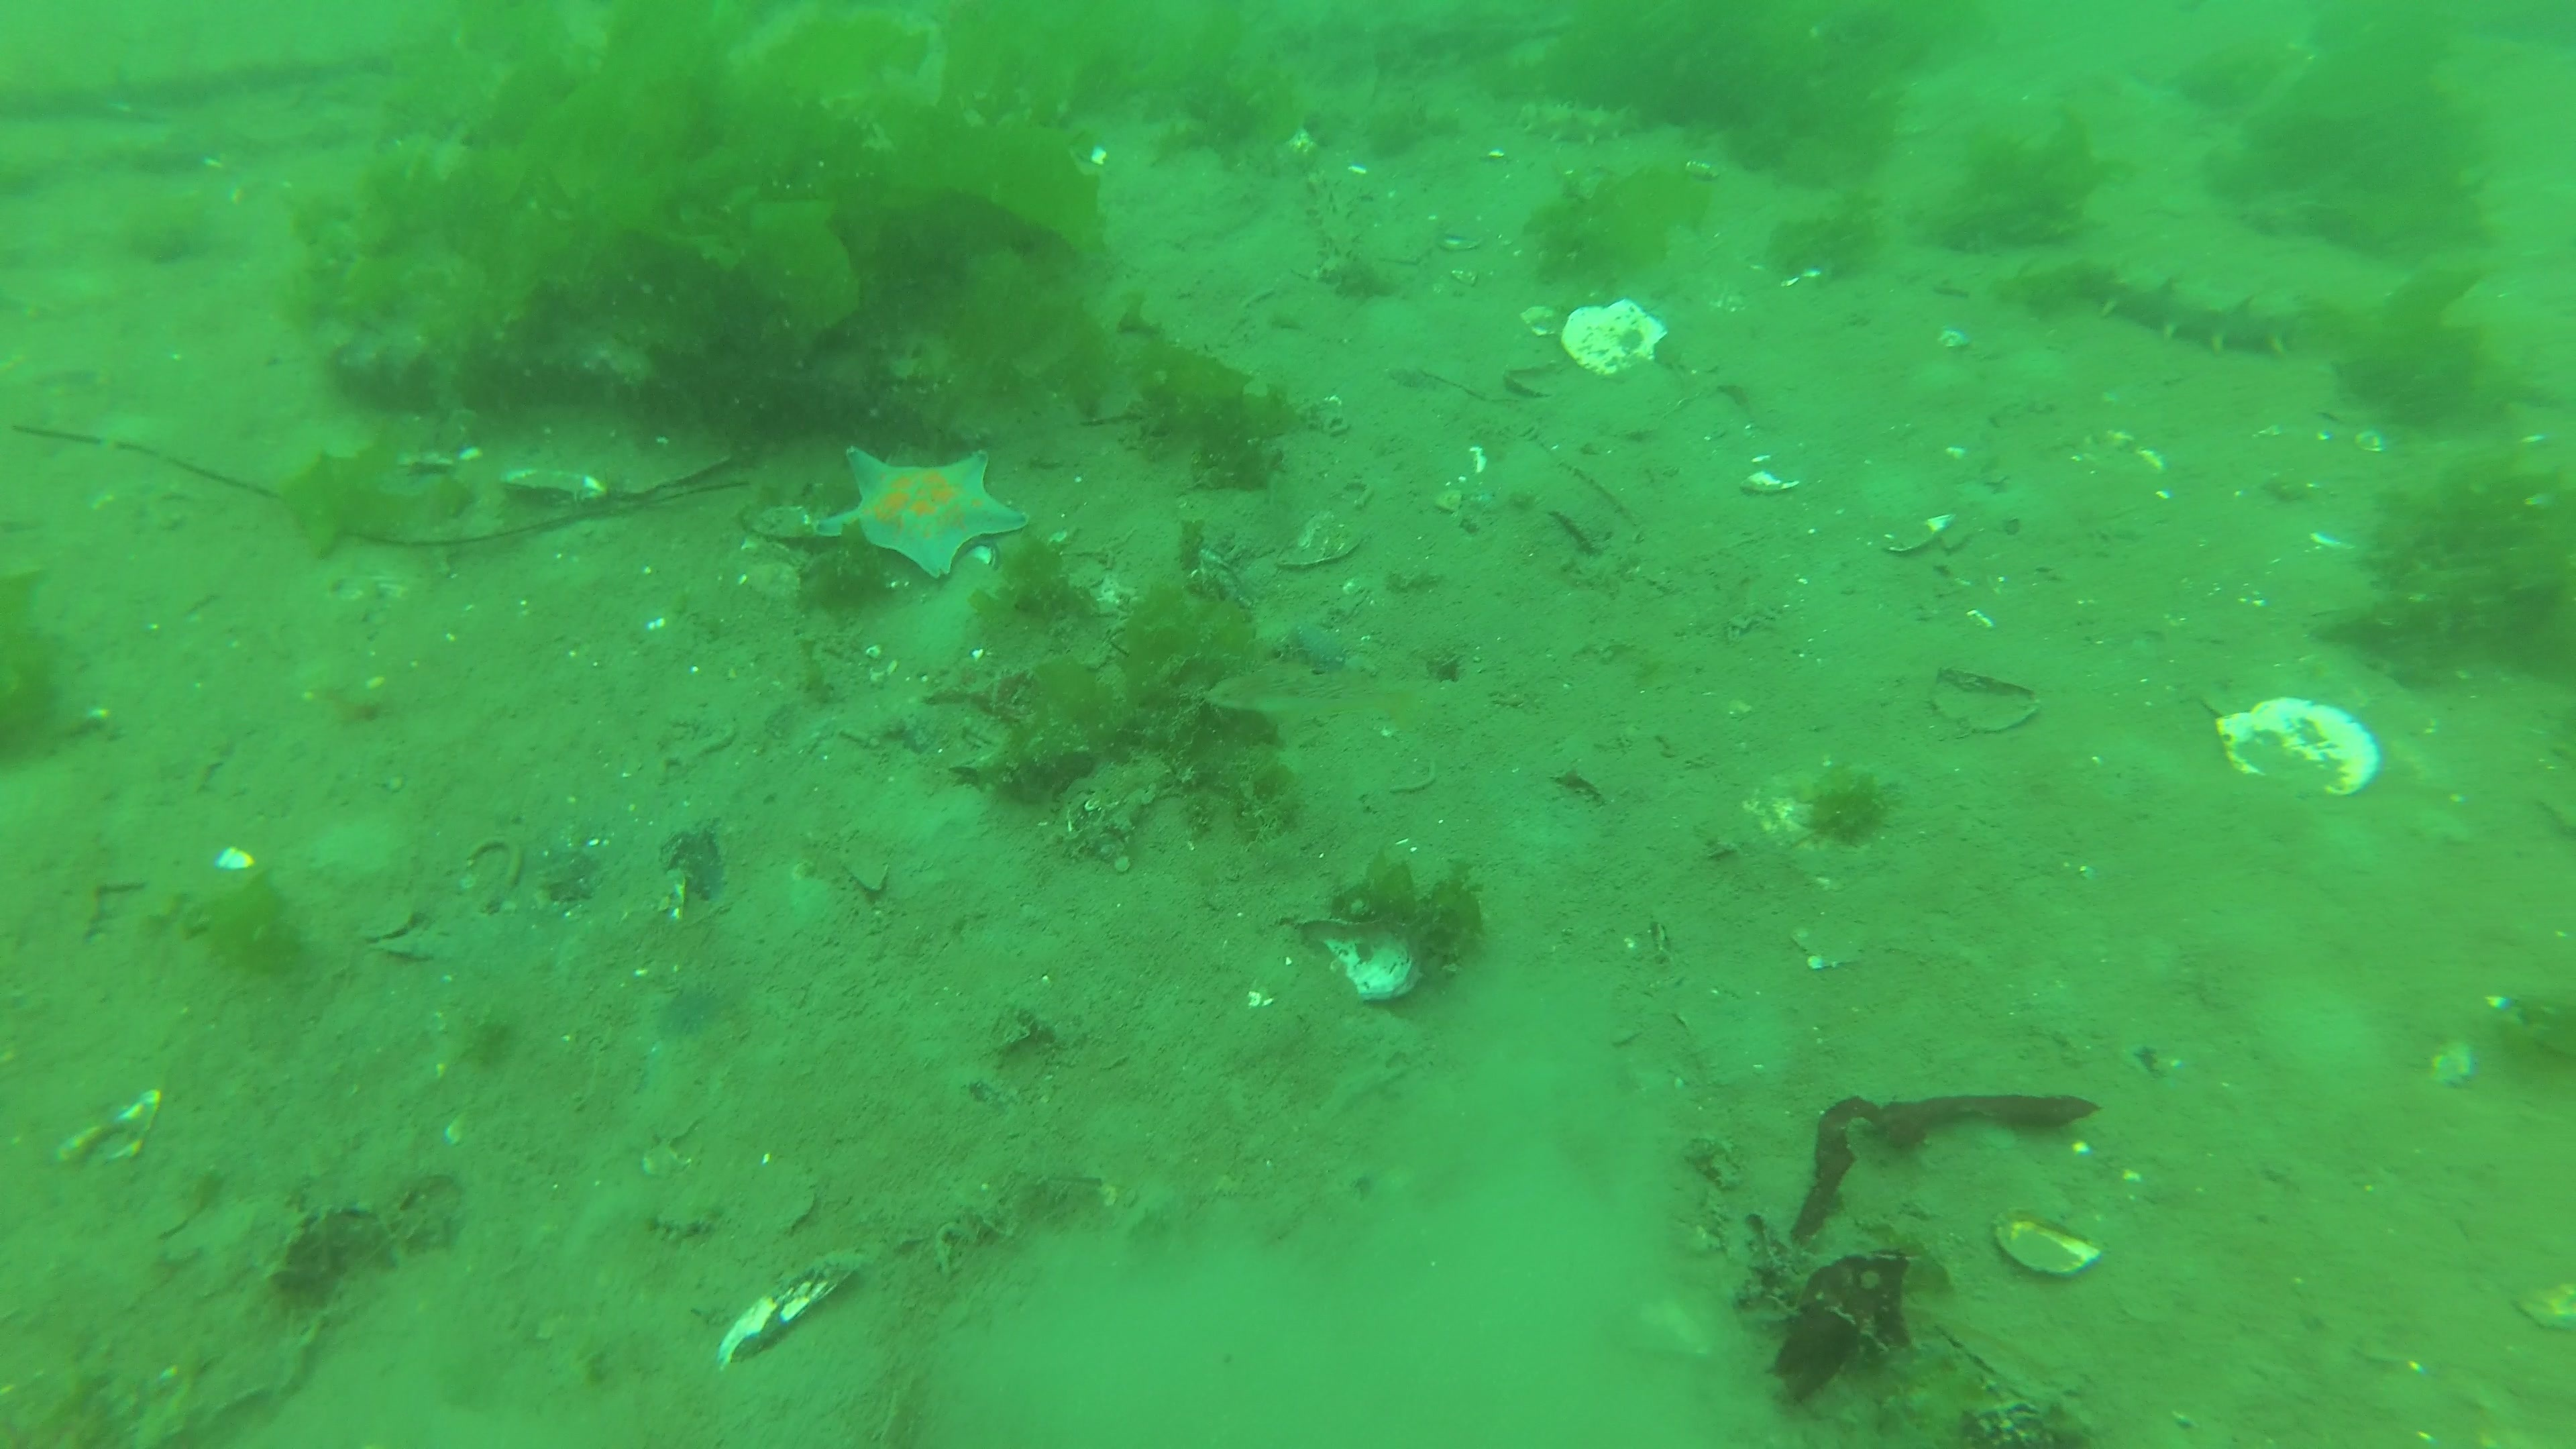holothurian: (2102, 264, 2311, 357), (1513, 97, 1644, 152)
scallop: (2213, 697, 2385, 801), (1559, 297, 1674, 380)
starfish: (823, 448, 1033, 580)
